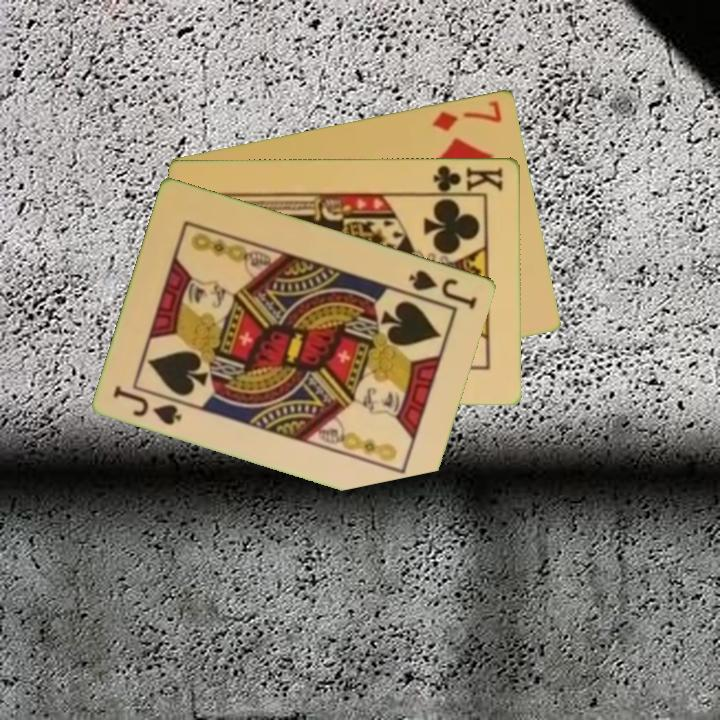7d: (429, 96, 505, 134)
Js: (110, 381, 190, 428), (405, 266, 481, 312)
Kc: (426, 162, 506, 196)
